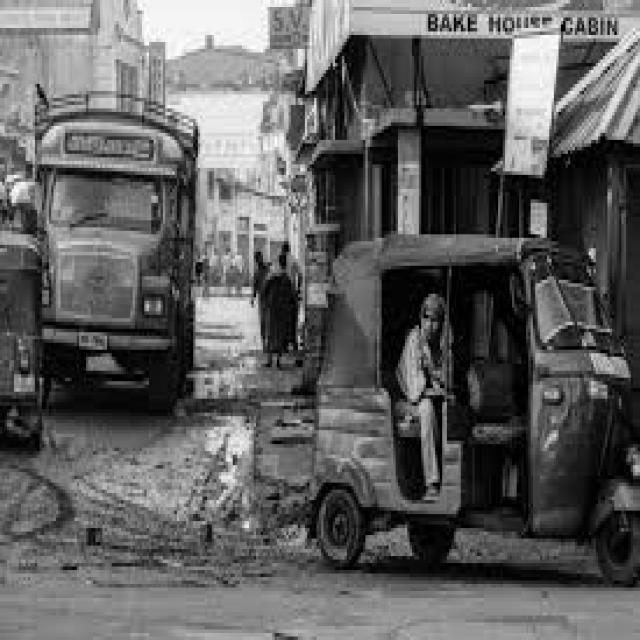person: (396, 297, 442, 490), (263, 273, 296, 353)
three wheeler: (310, 234, 638, 584), (0, 231, 37, 444)
truck: (35, 98, 195, 406)
